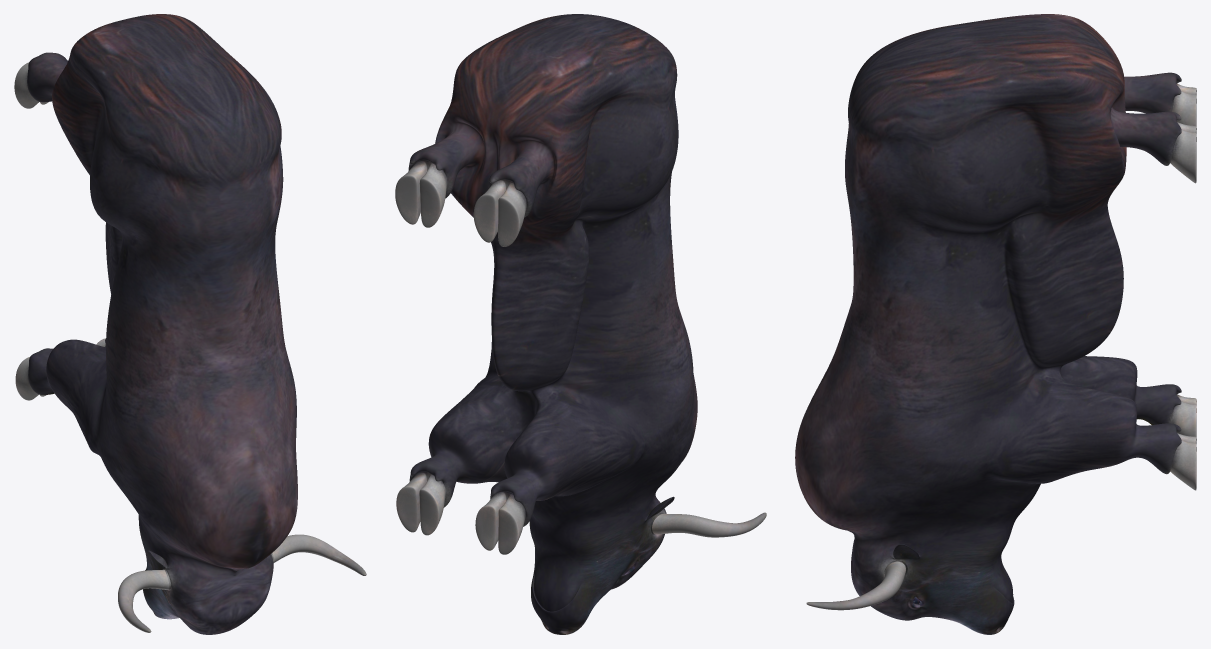
File: yak.glb
The picture shows the model from 3 angles, left to right: view 1: azimuth 30°, elevation 25°; view 2: azimuth 150°, elevation 25°; view 3: azimuth 270°, elevation 25°; orthographic projection. The views are drawn at different scales.
Parts seen in each view (by area): view 1: 13580_HimalayanYak_v2_L3; view 2: 13580_HimalayanYak_v2_L3; view 3: 13580_HimalayanYak_v2_L3.
Part boxes in pixels (bbox=[...]): 13580_HimalayanYak_v2_L3: bbox=[14, 14, 366, 634]; 13580_HimalayanYak_v2_L3: bbox=[395, 14, 766, 634]; 13580_HimalayanYak_v2_L3: bbox=[795, 14, 1196, 634].
Bounding box in the file's own units: 1.06 × 2.55 × 1.54.
1 material, 1 textured.
